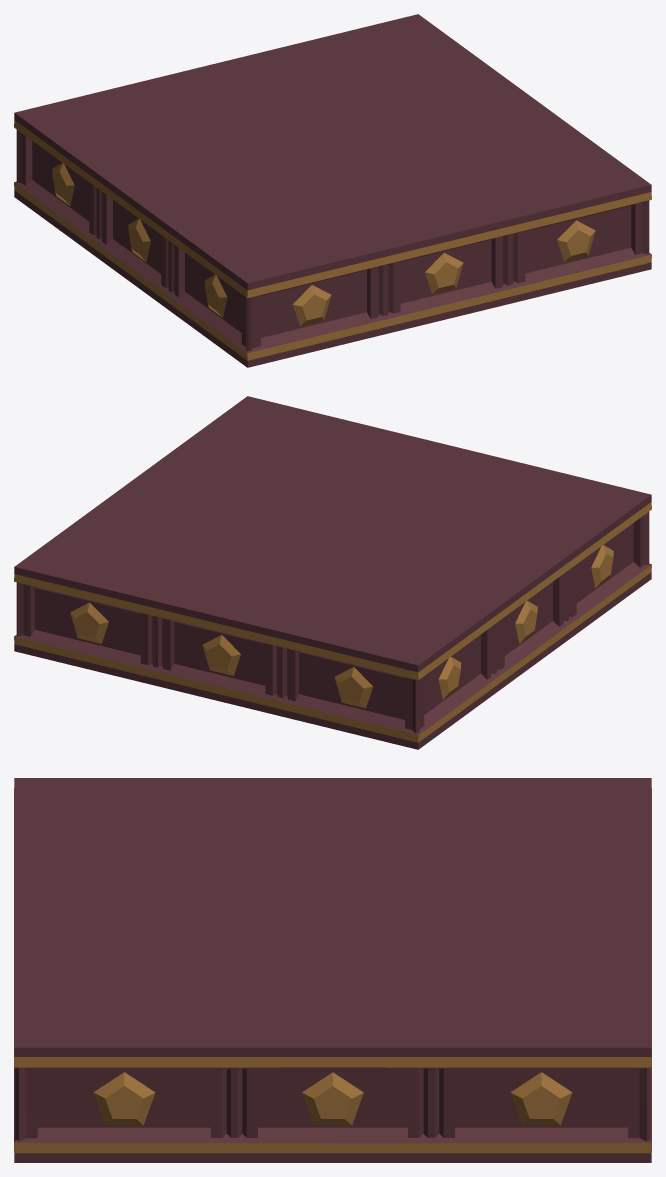
File: SM_Architrave_3x3m_Ornament_Empire.fbx
3 views of the same model, one above another, from view 1: azimuth 30°, elevation 25°; view 2: azimuth 150°, elevation 25°; view 3: azimuth 270°, elevation 25° (orthographic). The views are drawn at different scales.
Visible parts, largest first — view 1: SM_Architrave_3x3m_Ornament_Empire; view 2: SM_Architrave_3x3m_Ornament_Empire; view 3: SM_Architrave_3x3m_Ornament_Empire.
Part boxes in pixels (<box>): SM_Architrave_3x3m_Ornament_Empire: <box>14,14,651,367</box>; SM_Architrave_3x3m_Ornament_Empire: <box>14,396,651,749</box>; SM_Architrave_3x3m_Ornament_Empire: <box>14,778,651,1162</box>.
Bounding box in the file's own units: 3 × 0.5993 × 3.
